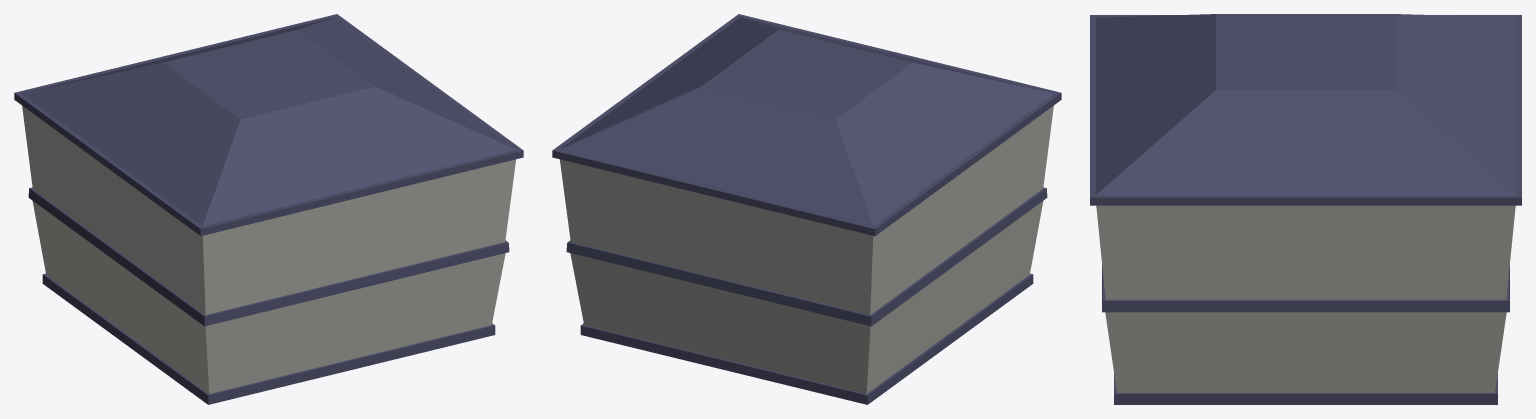
Rendered from paris_building_scaled_med_01.fbx.
3 renders of one model, left to right at view 1: azimuth 30°, elevation 25°; view 2: azimuth 150°, elevation 25°; view 3: azimuth 270°, elevation 25°, orthographic. The views are drawn at different scales.
Parts seen in each view (by area): view 1: Cube-convcol; view 2: Cube-convcol; view 3: Cube-convcol.
Part boxes in pixels (box(x1,y1,x2,y2)): Cube-convcol: box(14, 14, 523, 404); Cube-convcol: box(552, 14, 1061, 404); Cube-convcol: box(1090, 14, 1521, 404).
Size of the model in its own units: 1440 by 1000 by 1440.
